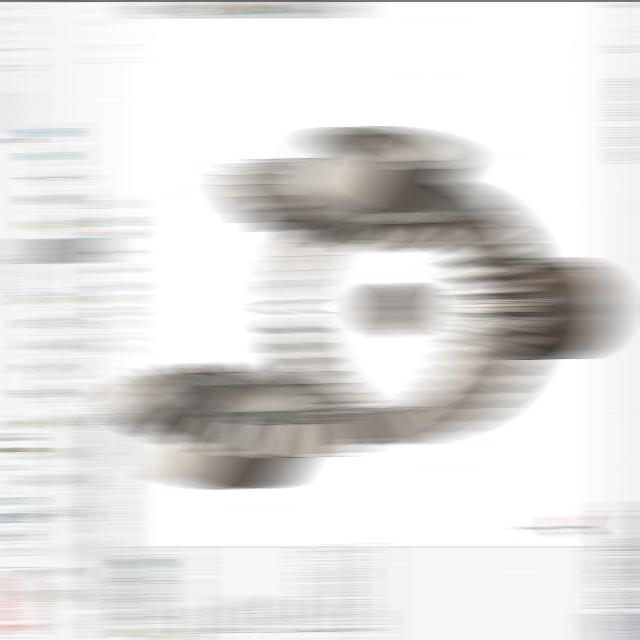Gear: (266, 180, 620, 446), (98, 359, 380, 487), (221, 128, 495, 253)
